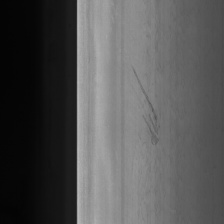water_spot: (168, 25, 219, 188), (131, 65, 163, 150)
